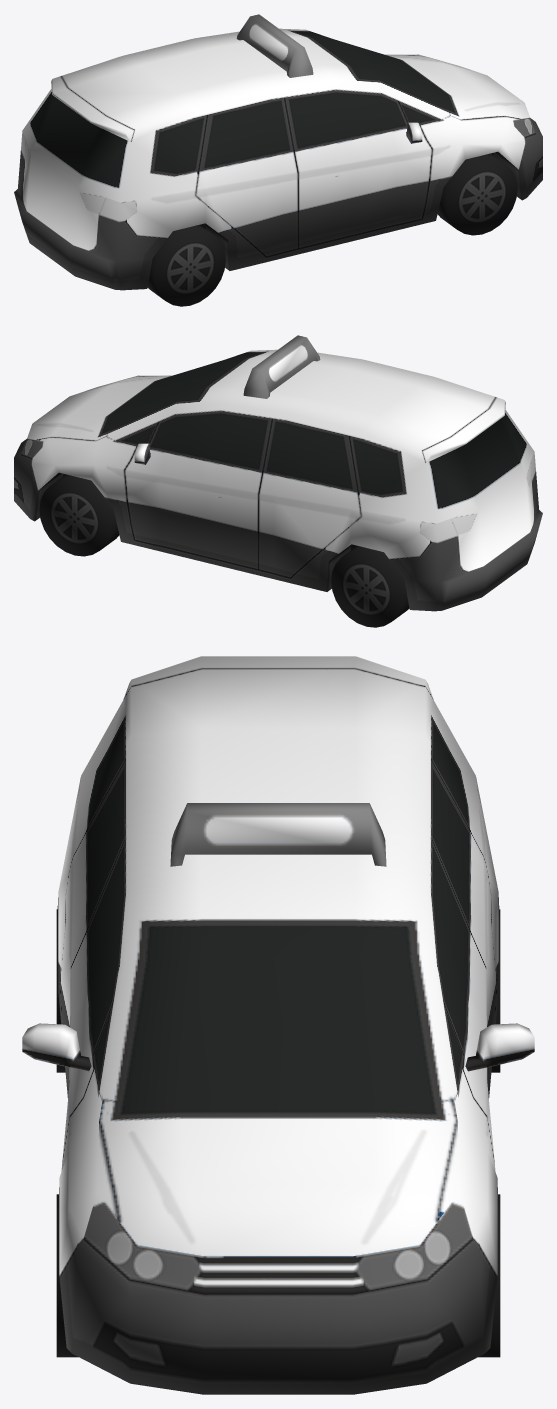
File: Car_SM_Taxi.glb
3 renders of one model, top to bottom at view 1: azimuth 30°, elevation 25°; view 2: azimuth 150°, elevation 25°; view 3: azimuth 270°, elevation 25°, orthographic. The views are drawn at different scales.
Visible parts, largest first — view 1: SM_Taxi_LowPoly; view 2: SM_Taxi_LowPoly; view 3: SM_Taxi_LowPoly.
Boxes of the visible parts, x1,y1,x2,y2 form: SM_Taxi_LowPoly: (14, 14, 542, 306); SM_Taxi_LowPoly: (14, 335, 542, 627); SM_Taxi_LowPoly: (22, 656, 534, 1394).
Bounding box in the file's own units: 468 × 187 × 219.
1 material, 1 textured.
